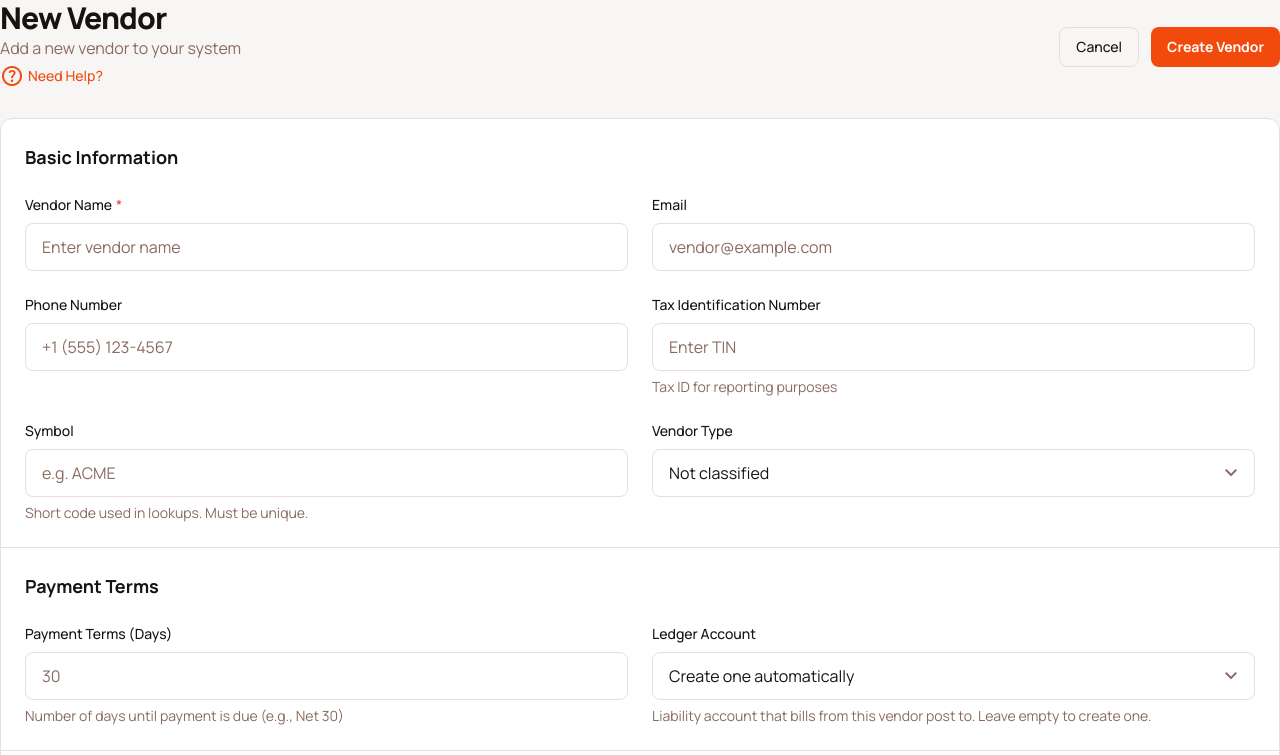
Scenario: VendorFormPage module-aware errors (SOUPFIN-160) › save › explains a missing role instead of the HTTP status
The image size is (1280, 755).
In the field with test id "vendor-form-name": x=326, y=247 [25,223,628,271], type "Acme Supplies"
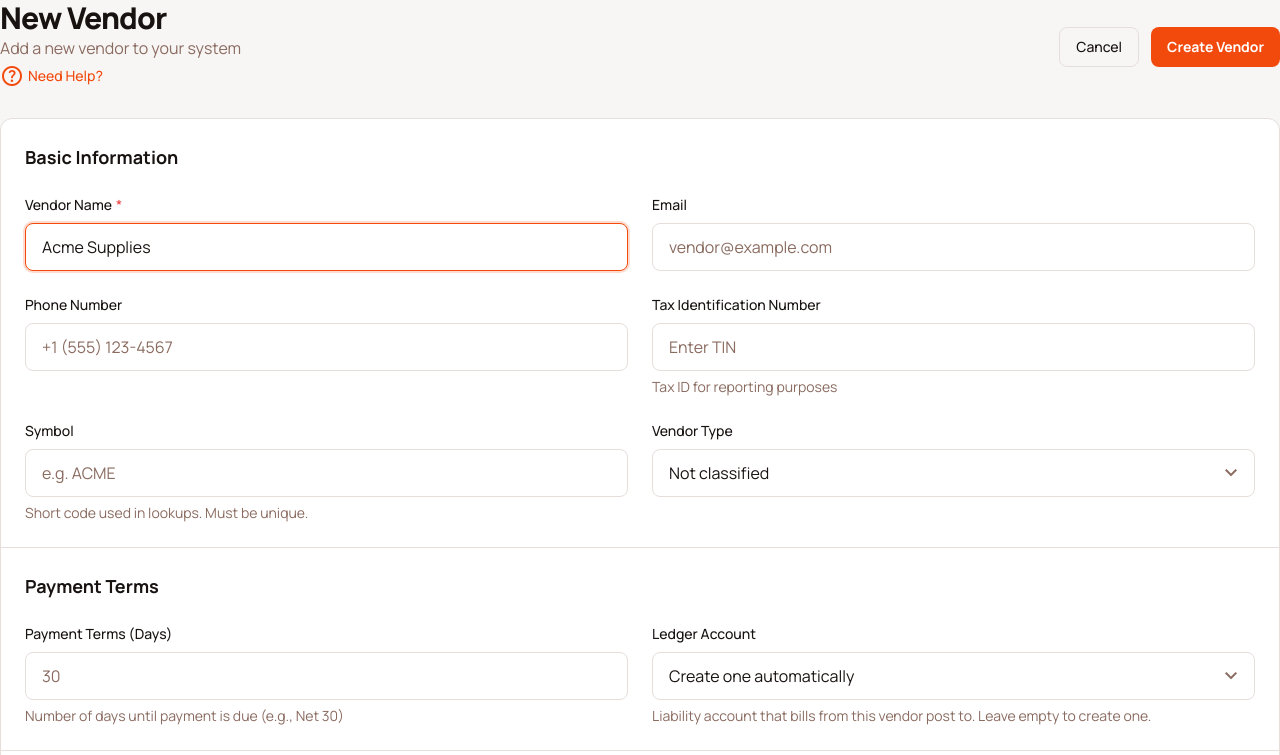
Click the button with test id "vendor-form-save": x=1216, y=47 [1151,27,1279,67]
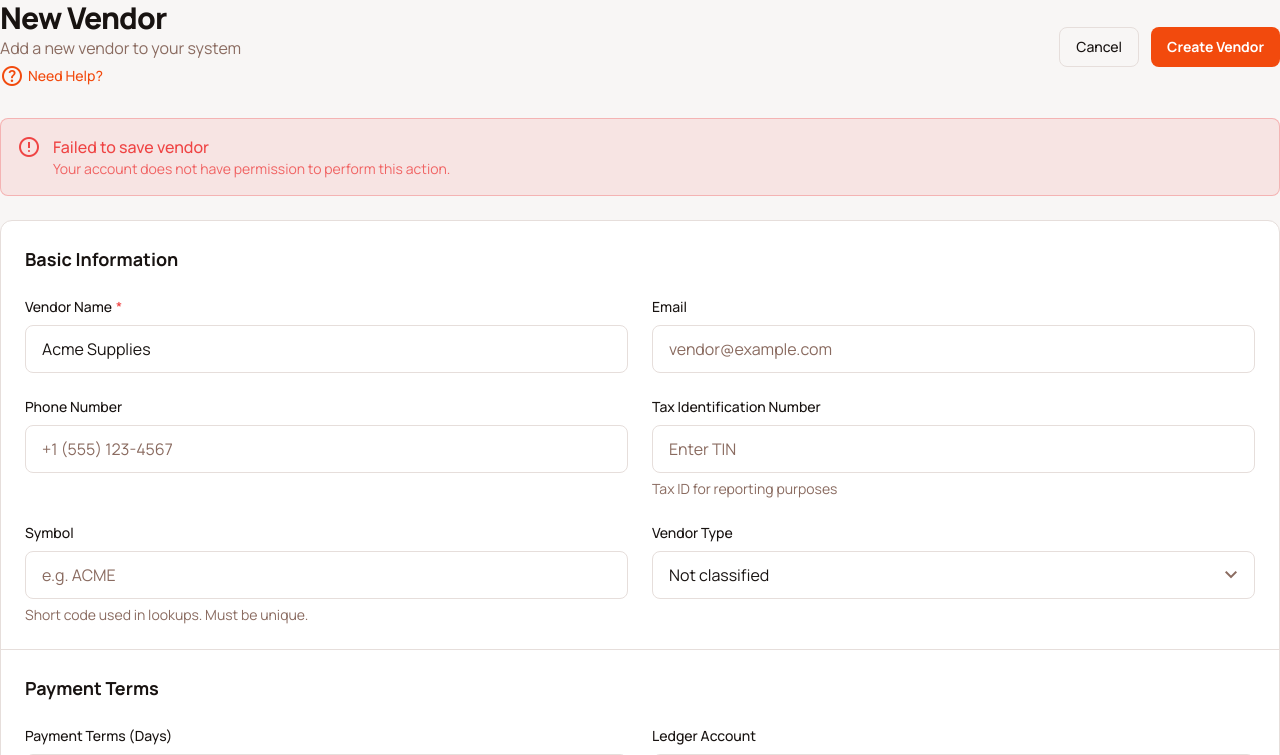
Expected: the element with test id "vendor-form-error" does not show "status code", [0,118,1279,196]
Expected: the element with test id "vendor-form-error" shows "Failed to save vendor", [53,136,209,158]
Expected: the element with test id "vendor-form-error" shows "does not have permission to perform this action", [53,159,450,178]
